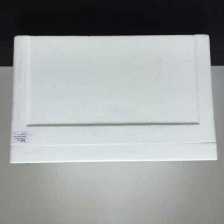foam_box: (6, 31, 222, 168)
